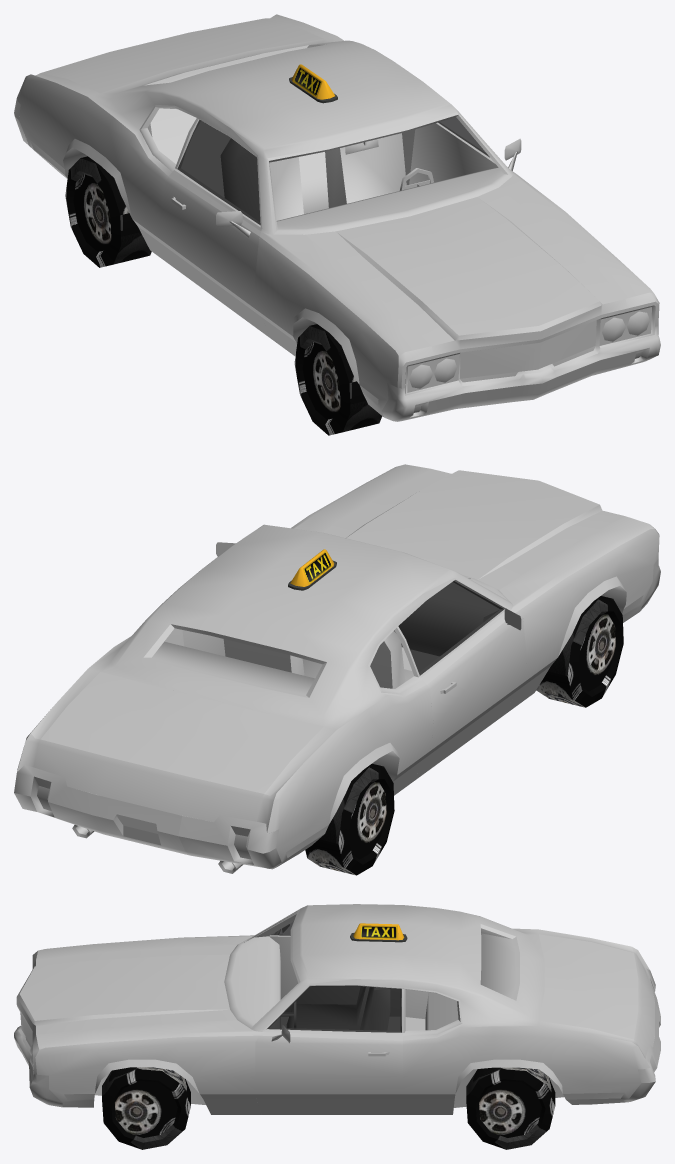
File: TaxiCar.FBX
The picture shows the model from 3 angles, top to bottom: view 1: azimuth 30°, elevation 25°; view 2: azimuth 150°, elevation 25°; view 3: azimuth 270°, elevation 25°; orthographic projection. The views are drawn at different scales.
Visible parts, largest first — view 1: Body, RightDoor, BR, FR, LeftDoor, Taxi; view 2: Body, RightDoor, BR, FR, Taxi, LeftDoor; view 3: Body, LeftDoor, BL, FL, RightDoor, Taxi.
Part boxes in pixels (x1=…): Body: x1=14, y1=14, x2=660, y2=421; RightDoor: x1=161, y1=119, x2=270, y2=337; BR: x1=65, y1=156, x2=151, y2=267; FR: x1=294, y1=324, x2=382, y2=435; LeftDoor: x1=409, y1=117, x2=521, y2=184; Taxi: x1=289, y1=64, x2=337, y2=103; Body: x1=14, y1=464, x2=660, y2=873; RightDoor: x1=398, y1=581, x2=526, y2=780; BR: x1=305, y1=763, x2=394, y2=875; FR: x1=536, y1=596, x2=623, y2=707; Taxi: x1=288, y1=549, x2=336, y2=590; LeftDoor: x1=182, y1=542, x2=235, y2=656; Body: x1=14, y1=904, x2=660, y2=1114; LeftDoor: x1=255, y1=985, x2=402, y2=1114; BL: x1=466, y1=1067, x2=555, y2=1149; FL: x1=102, y1=1067, x2=190, y2=1149; RightDoor: x1=269, y1=921, x2=400, y2=1016; Taxi: x1=350, y1=923, x2=407, y2=942.
Size of the model in its own units: 17.22 by 11.81 by 39.76.
